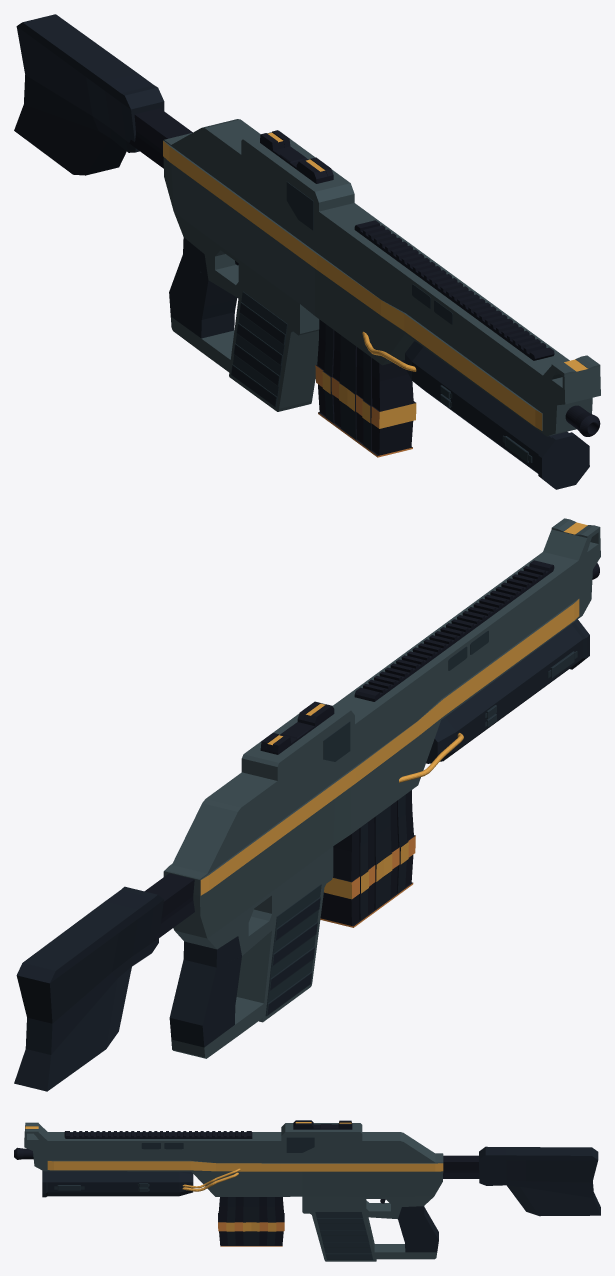
Rendered from gun_ar13.fbx.
3 views of the same model, one above another, from view 1: azimuth 30°, elevation 25°; view 2: azimuth 150°, elevation 25°; view 3: azimuth 270°, elevation 25° (orthographic). The views are drawn at different scales.
Parts seen in each view (by area): view 1: Cube.002, Cube, Cube.007, Cylinder.001, Cube.003, Cube.015, Cube.001, Cube.006, Cube.016, Cylinder; view 2: Cube.002, Cube, Cube.007, Cylinder.001, Cube.003, Cube.015, Cube.001, Cube.006, Cube.016; view 3: Cube.002, Cube, Cylinder.001, Cube.007, Cube.014, Cube.003, Cube.001, Cube.006, Cube.016, Cylinder.
Boxes of the visible parts, x1,y1,x2,y2 form: Cube.002: (163, 119, 600, 436); Cube: (14, 14, 164, 175); Cube.007: (315, 319, 416, 457); Cylinder.001: (405, 341, 589, 489); Cube.003: (354, 220, 554, 360); Cube.015: (231, 291, 287, 407); Cube.001: (129, 108, 192, 168); Cube.006: (260, 130, 333, 183); Cube.016: (286, 182, 313, 230); Cylinder: (565, 405, 600, 436); Cube.002: (163, 518, 600, 1058); Cube: (14, 886, 163, 1091); Cube.007: (320, 790, 415, 927); Cylinder.001: (426, 619, 589, 763); Cube.003: (354, 560, 554, 701); Cube.015: (265, 884, 321, 1016); Cube.001: (144, 873, 194, 940); Cube.006: (260, 701, 334, 754); Cube.016: (323, 721, 350, 761); Cube.002: (24, 1122, 443, 1261); Cube: (479, 1146, 600, 1216); Cylinder.001: (42, 1170, 193, 1197); Cube.007: (218, 1197, 284, 1246); Cube.014: (315, 1212, 373, 1259); Cube.003: (64, 1131, 252, 1138); Cube.001: (443, 1155, 479, 1178); Cube.006: (293, 1120, 352, 1129); Cube.016: (286, 1137, 314, 1152); Cylinder: (14, 1147, 33, 1159).
Bounding box in the file's own units: 30.48 × 118 × 467.
